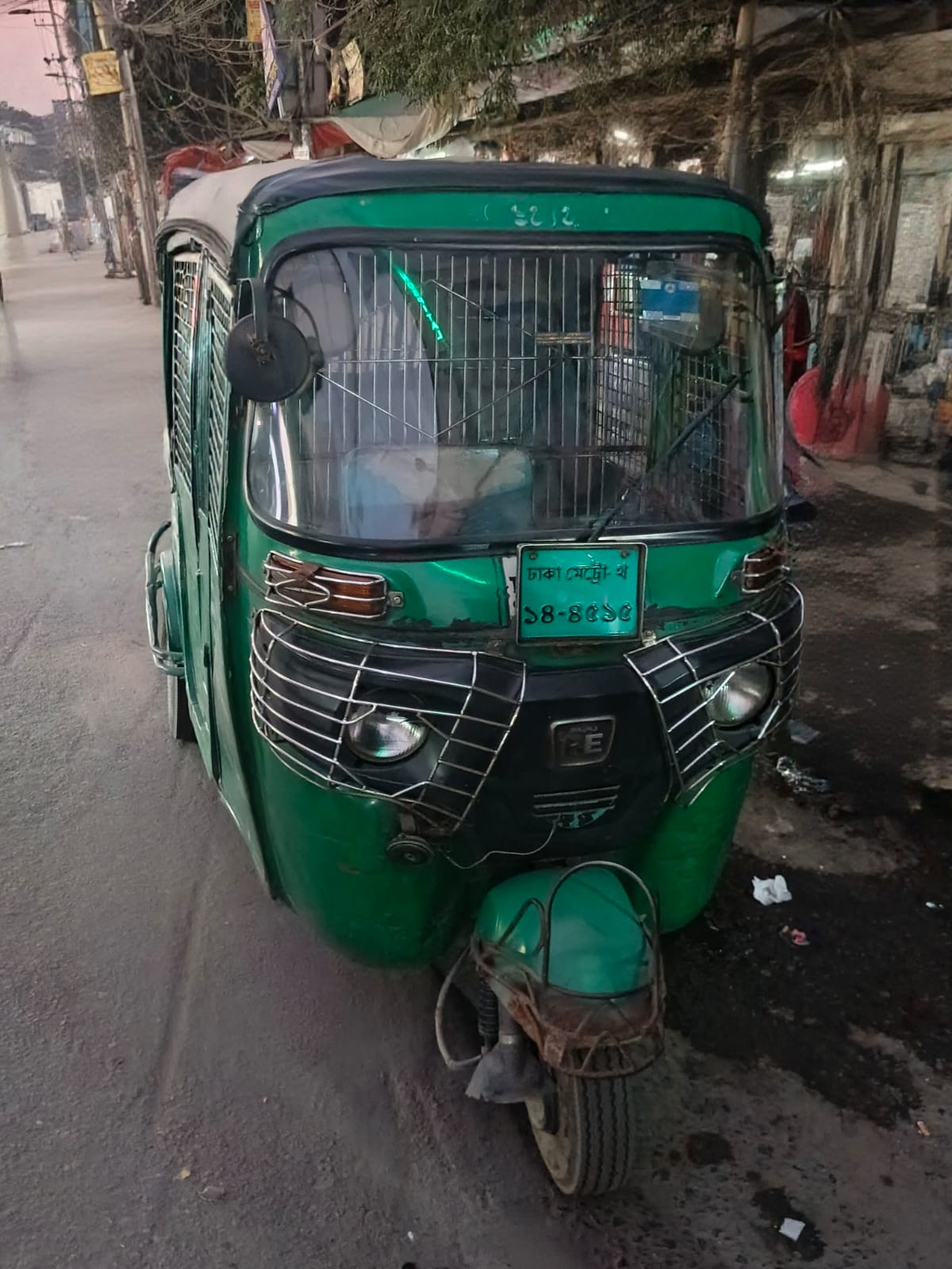cng: (130, 104, 821, 1221)
